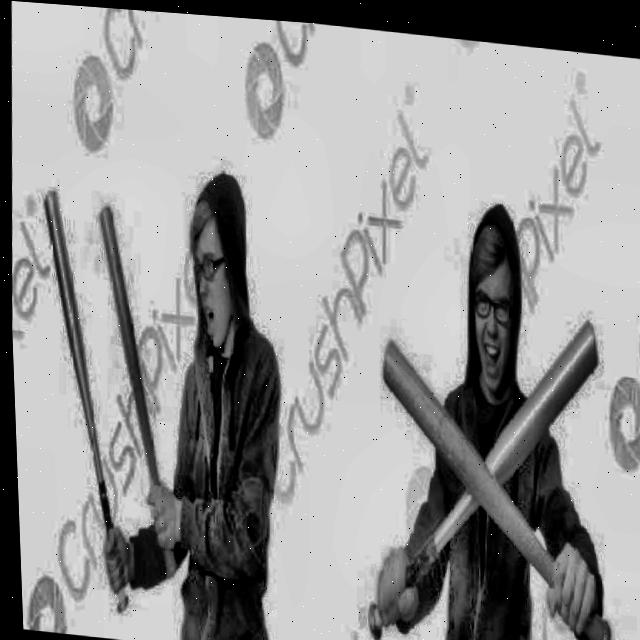tongkat pemukul: (16, 169, 198, 621)
